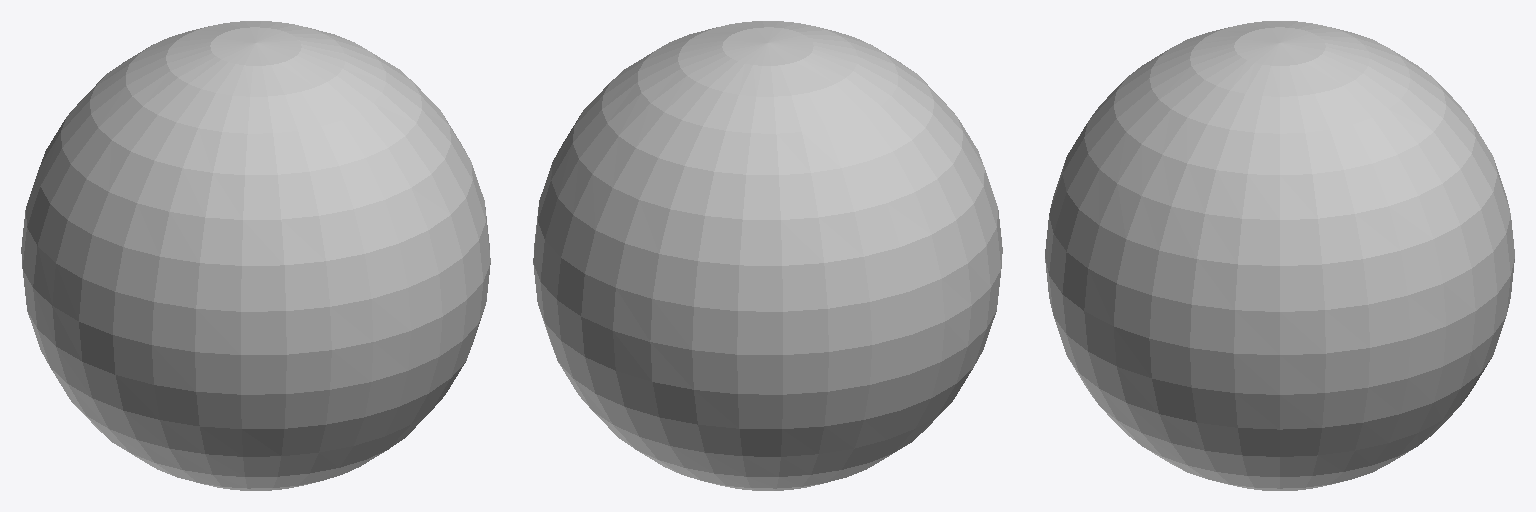
The model's file is Hipo_EsferaD.obj.
The picture shows the model from 3 angles: view 1: azimuth 30°, elevation 25°; view 2: azimuth 150°, elevation 25°; view 3: azimuth 270°, elevation 25°; orthographic projection.
Parts seen in each view (by area): view 1: Sphere001; view 2: Sphere001; view 3: Sphere001.
Boxes of the visible parts, x1=… form: Sphere001: x1=21, y1=21, x2=490, y2=490; Sphere001: x1=533, y1=21, x2=1002, y2=490; Sphere001: x1=1045, y1=21, x2=1514, y2=490.
Bounding box in the file's own units: 0.1336 × 0.1336 × 0.1336.